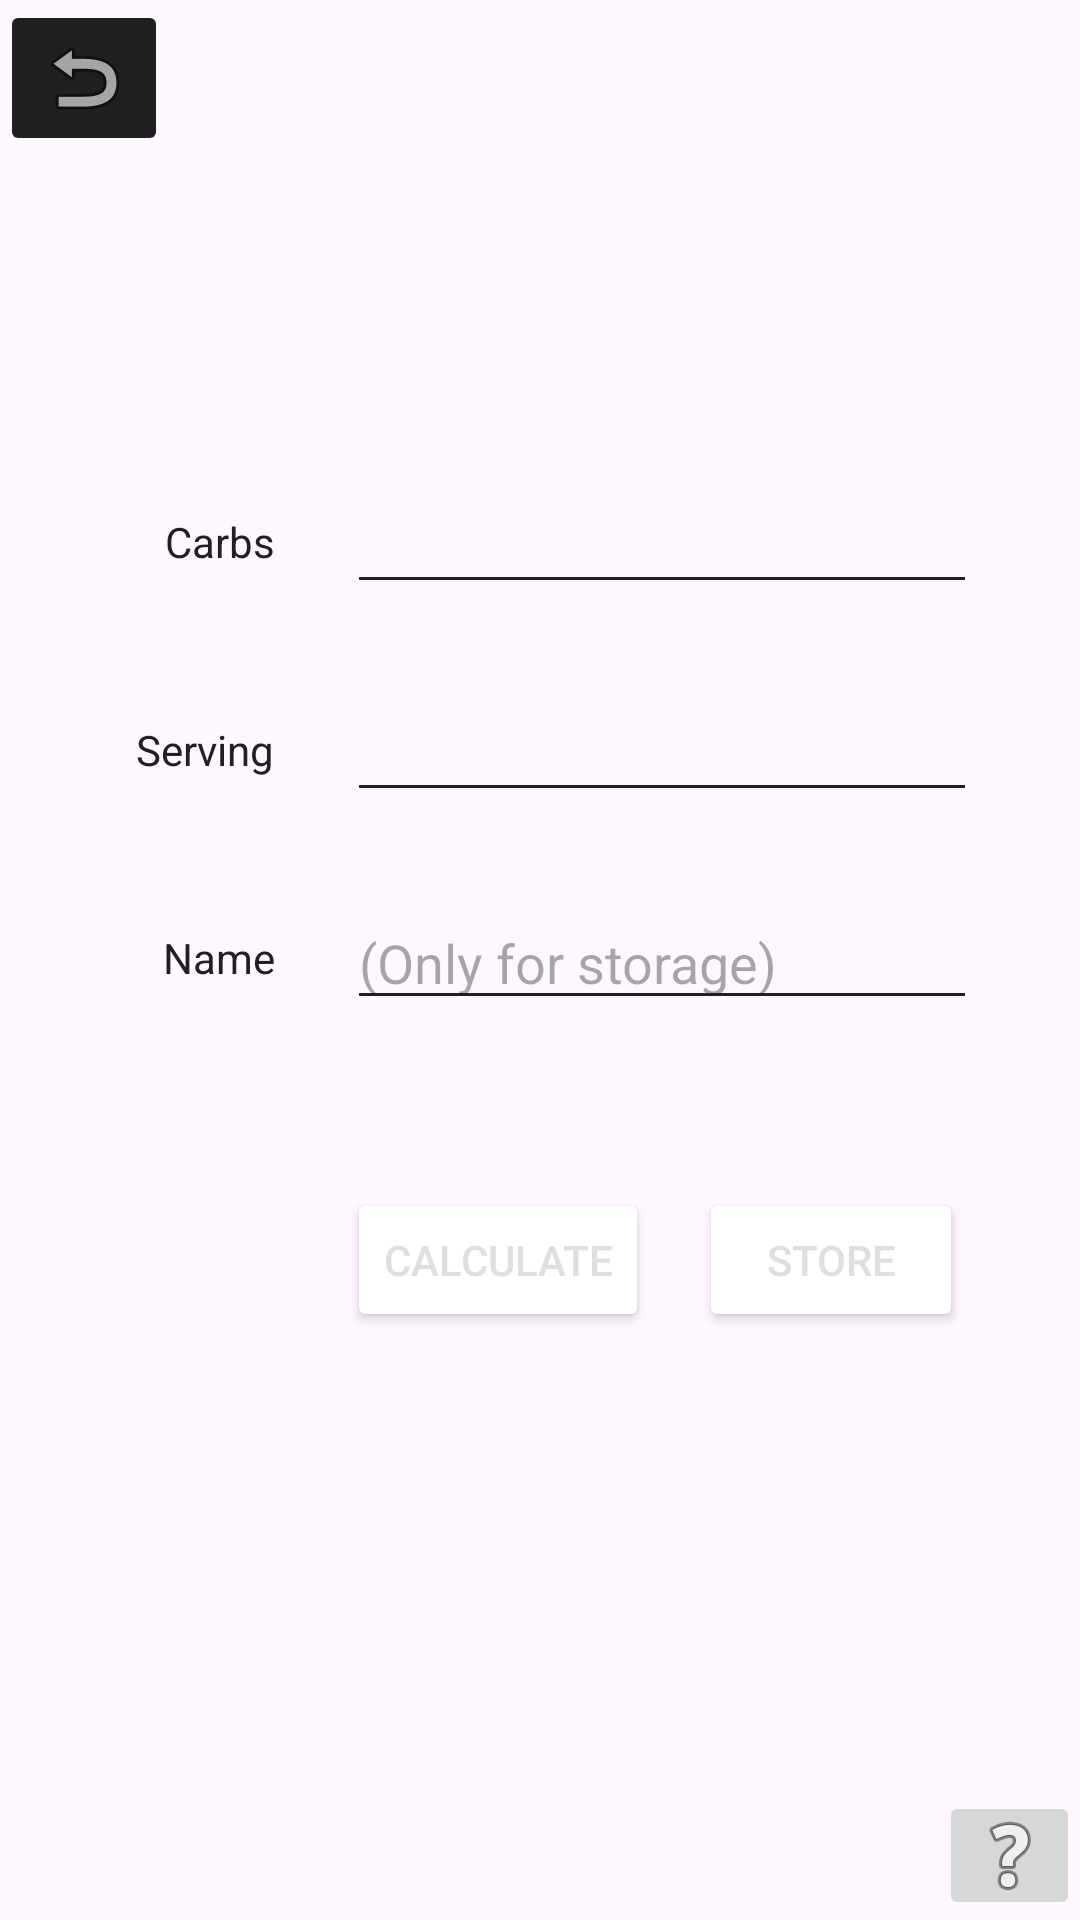

Point at icon controls on the screen. Image size 1080×1920, points as (x=x, y=y).
help: (x=1009, y=1855)
revert: (x=84, y=78)
